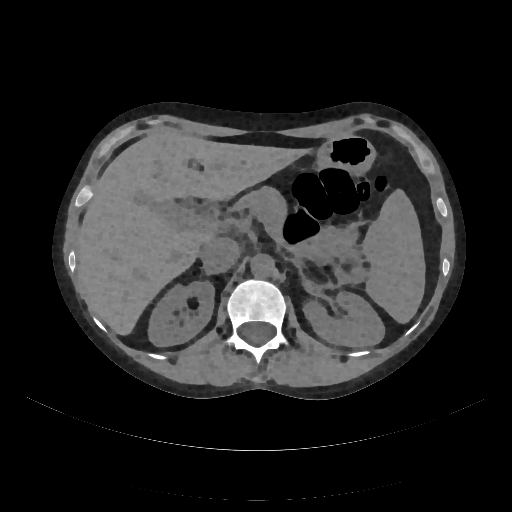Lesion: (183, 295, 205, 316)
